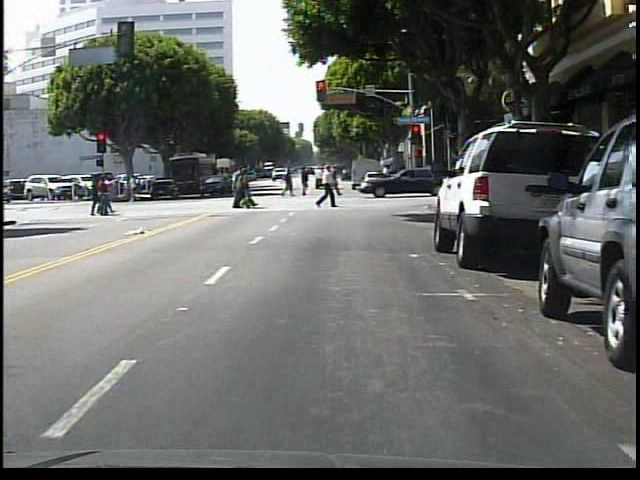person: (317, 161, 341, 213), (125, 174, 144, 205), (332, 167, 343, 196)
